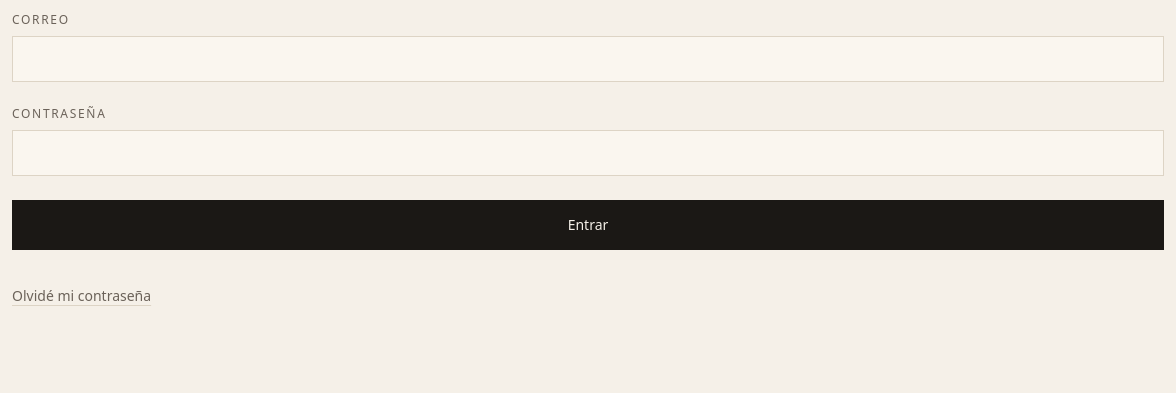
Test case: LoginForm — sign-in › shows the SAME generic message for auth/invalid-credential, so it never reveals whether an email exists
Type "someone@example.com" into the field labelled "Correo" at (588,59), box [12,36,1164,82]
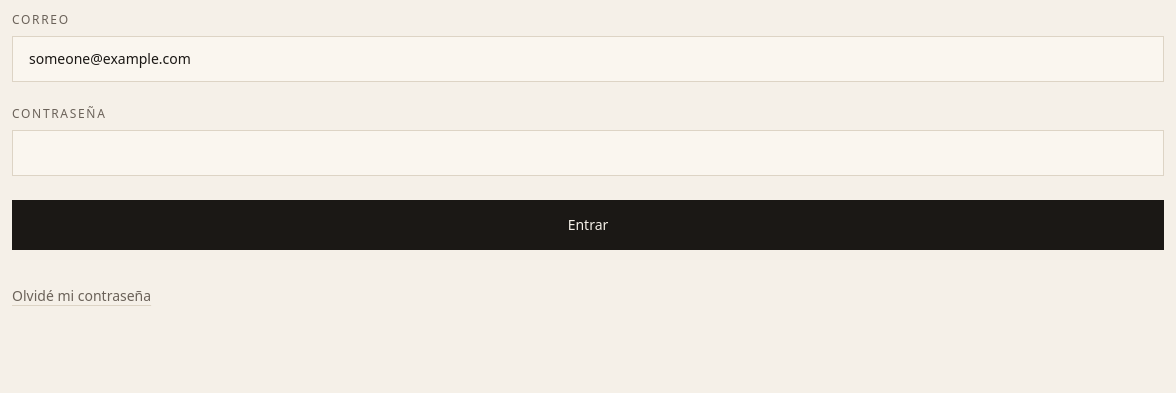
Type "whatever" into the password field labelled "Contraseña" at (588,153), box [12,130,1164,176]
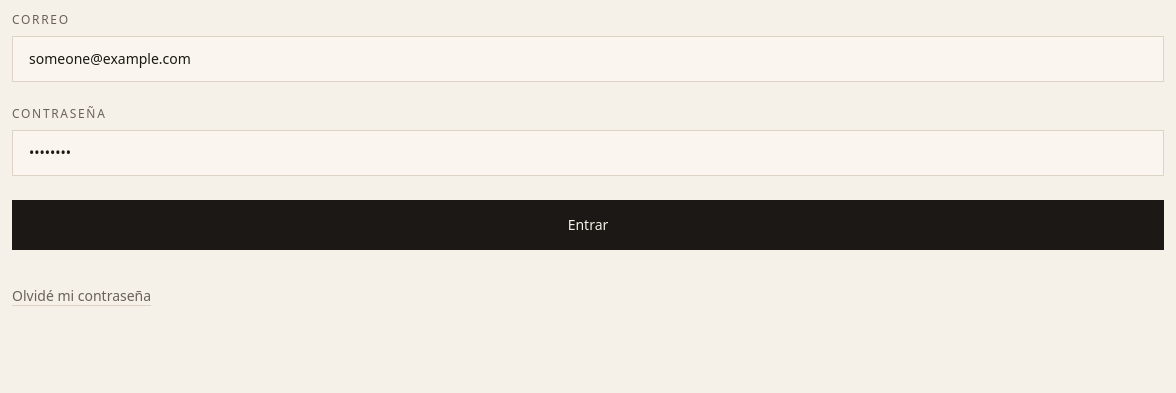
Submit the form "Entrar"
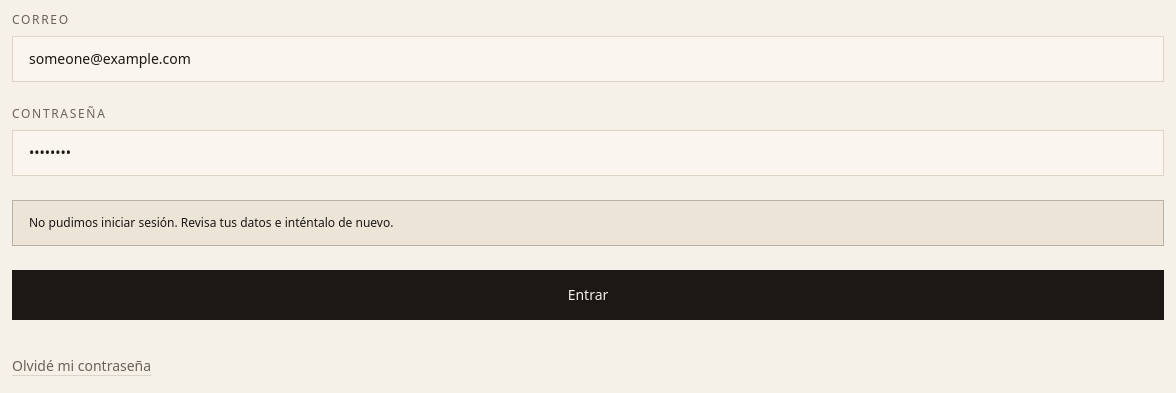
expect the message reads "No pudimos iniciar sesión. Revisa tus datos e inténtalo de nuevo.": met, box [29,214,393,231]
